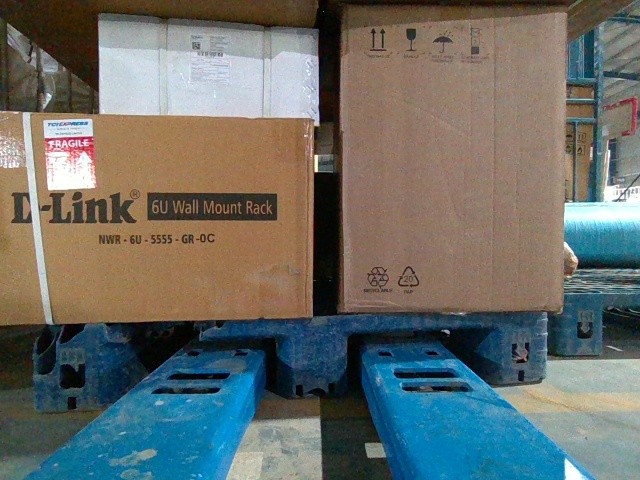block: (36, 322, 107, 414), (279, 316, 355, 399), (496, 310, 547, 385), (557, 293, 607, 361)
front: (38, 309, 548, 407)
hole pallet: (116, 335, 282, 405), (346, 324, 496, 393)
